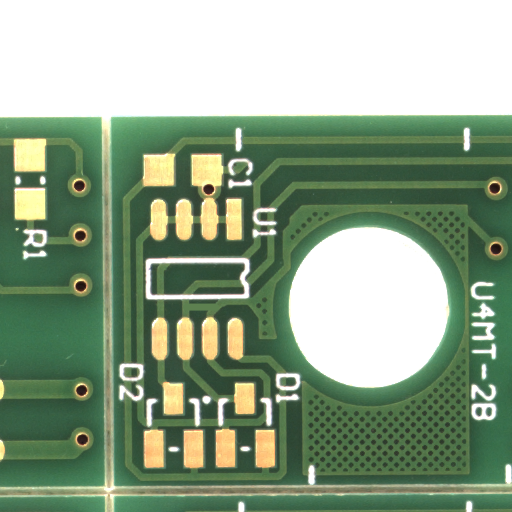Short: (201, 308, 235, 320)
